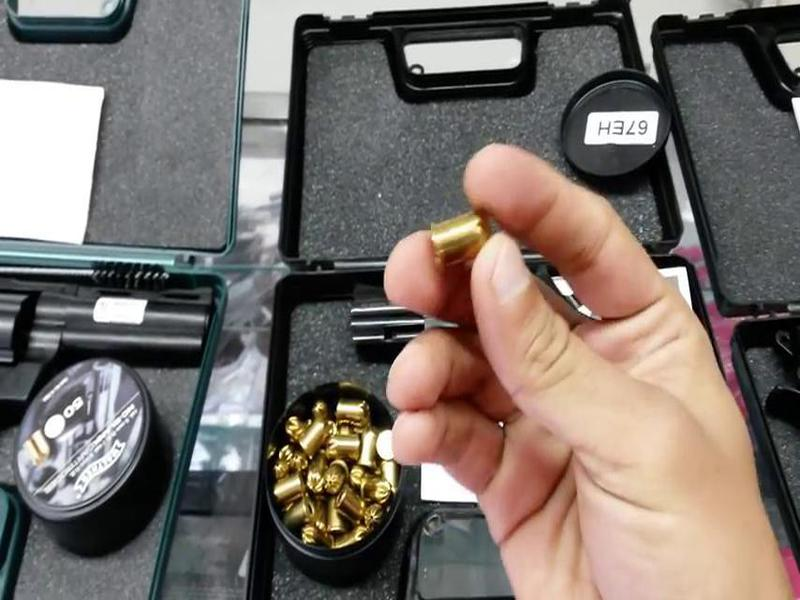Revolver: (1, 268, 260, 418)
